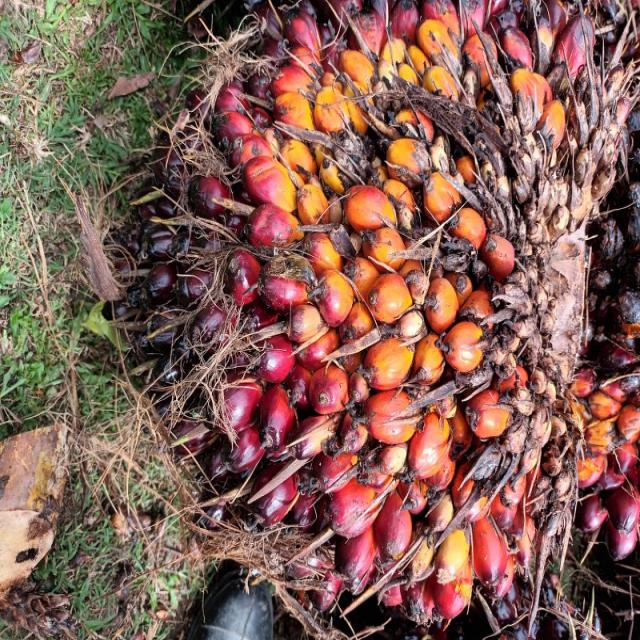fraksi 1: (0, 38, 474, 640)
